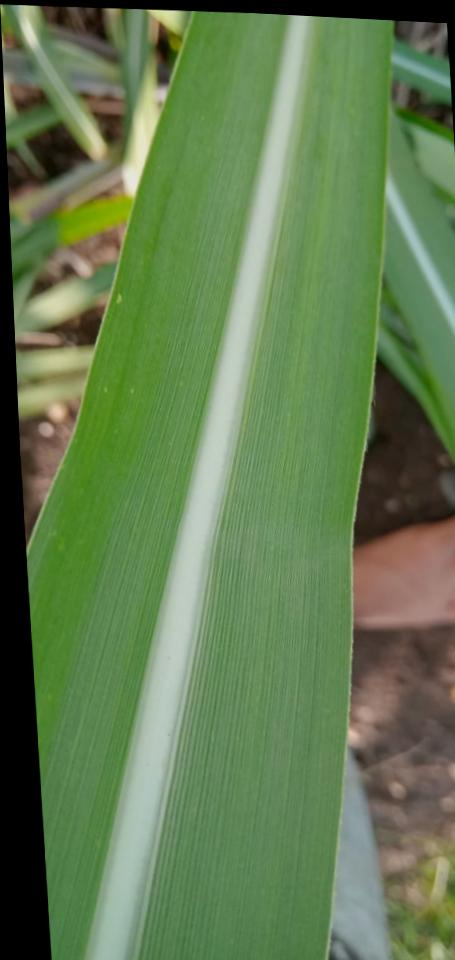Healthy: (26, 10, 286, 960), (135, 16, 390, 960), (384, 201, 455, 421), (389, 101, 455, 303)
